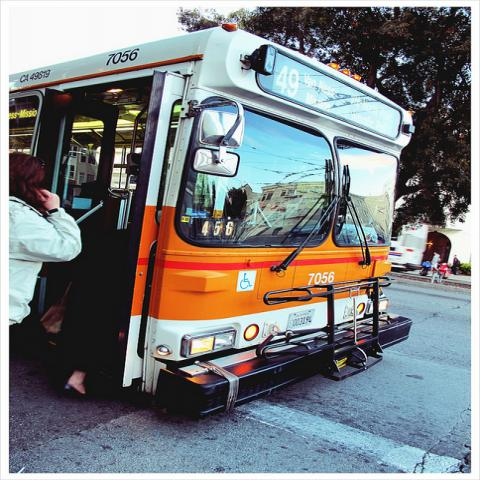bus: (10, 22, 418, 420)
